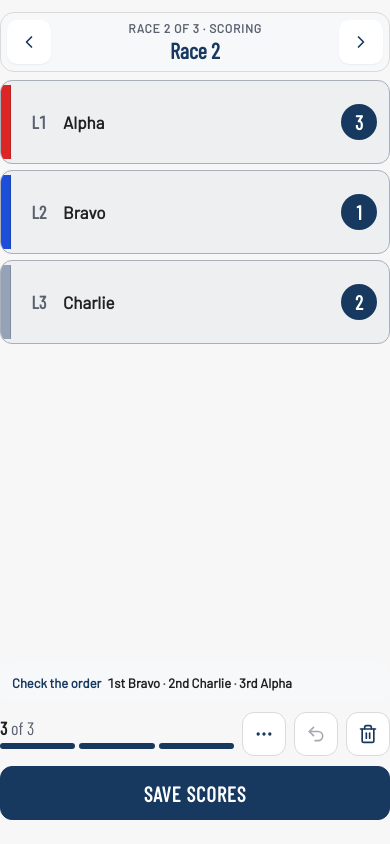
Test: eliminating and dead heats from race tools › marks the ticked teams as a dead heat, and needs two
Click the button named "Race tools": coordinates (264, 734) x1=242 y1=712 x2=286 y2=756
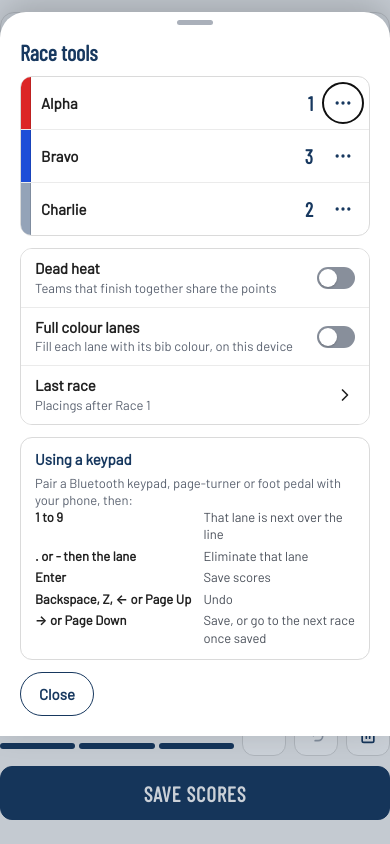
Click the switch named "Dead heat": coordinates (336, 278) x1=317 y1=267 x2=355 y2=289
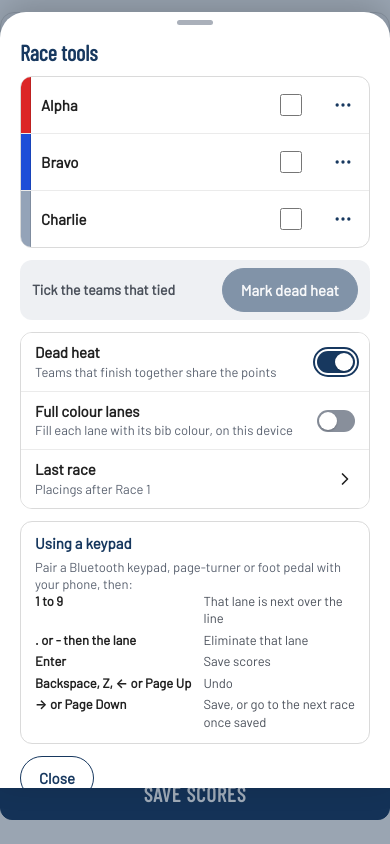
Result: the button "Mark dead heat" is disabled at x1=222 y1=268 x2=358 y2=312
Click the 2nd checkbox named "Tied: Bravo": coordinates (291, 162) x1=280 y1=151 x2=302 y2=173
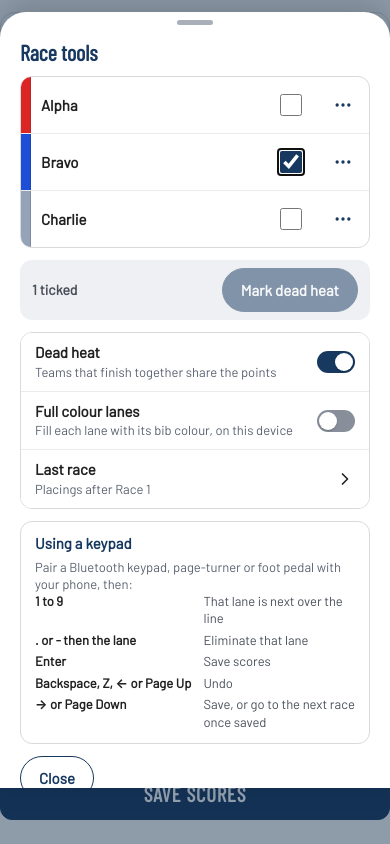
Result: the button "Mark dead heat" is disabled at x1=222 y1=268 x2=358 y2=312
Click the 3rd checkbox named "Tied: Charlie": coordinates (291, 219) x1=280 y1=208 x2=302 y2=230
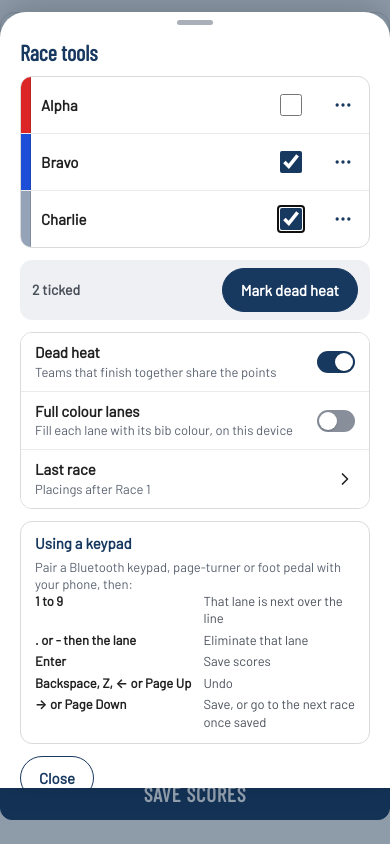
Result: the text "2 ticked" is shown at x1=32 y1=281 x2=80 y2=299
Click the button "Mark dead heat": coordinates (290, 290) x1=222 y1=268 x2=358 y2=312
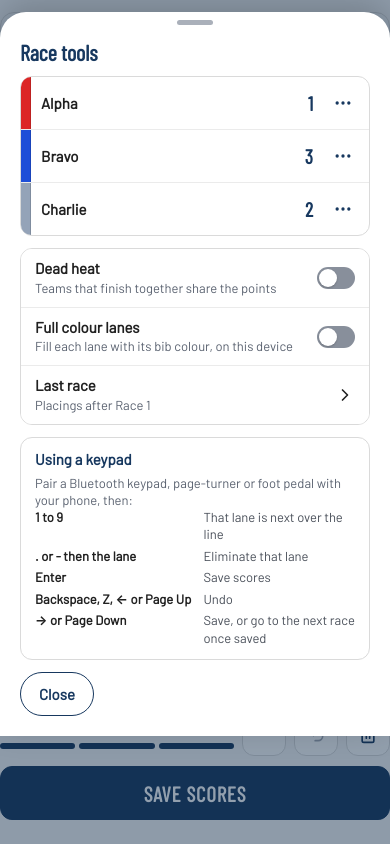
Result: the checkbox is gone
